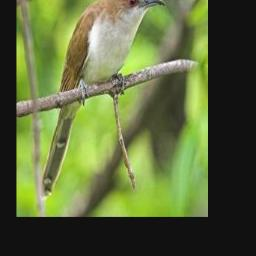Cuckoo: (41, 0, 167, 197)
